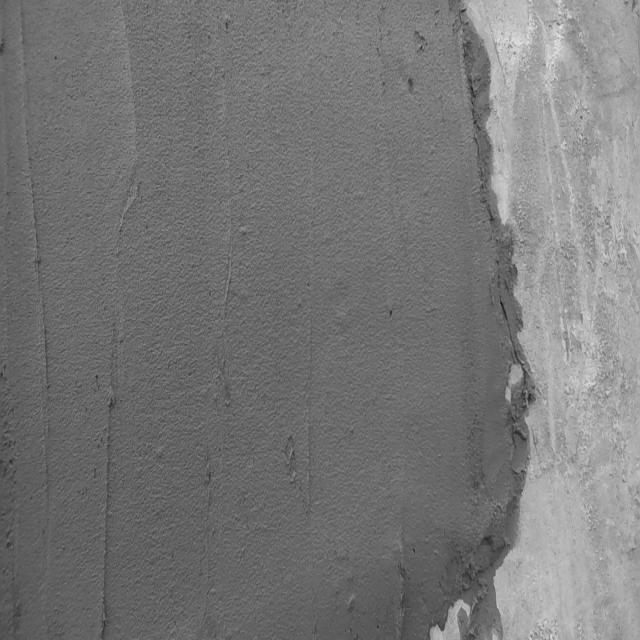trowels marks: (24, 128, 54, 487), (97, 388, 118, 632)
